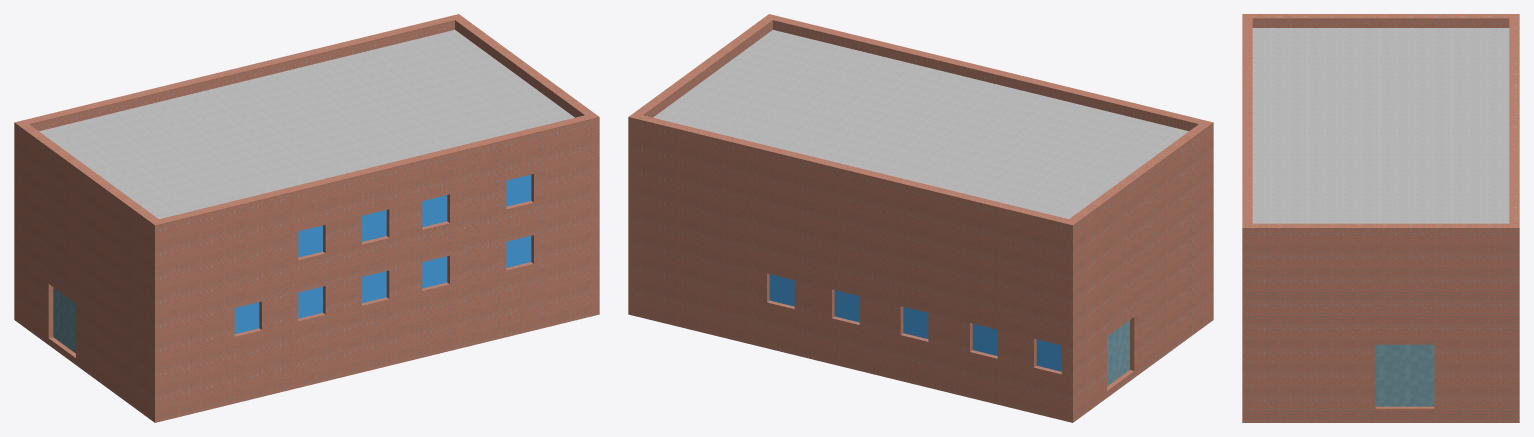
Rendered from 35kV_Switching_Station.glb.
3 views of the same model, side by side, from view 1: azimuth 30°, elevation 25°; view 2: azimuth 150°, elevation 25°; view 3: azimuth 270°, elevation 25° (orthographic).
Visible parts, largest first — view 1: Floor1; view 2: Floor1; view 3: Floor1.
Boxes of the visible parts, box(x1,y1,x2,y2) form: Floor1: box(14, 14, 599, 422); Floor1: box(628, 14, 1213, 422); Floor1: box(1242, 14, 1519, 422).
Bounding box in the file's own units: 19.3 × 8.2 × 10.58.
4 materials, 4 textured.
